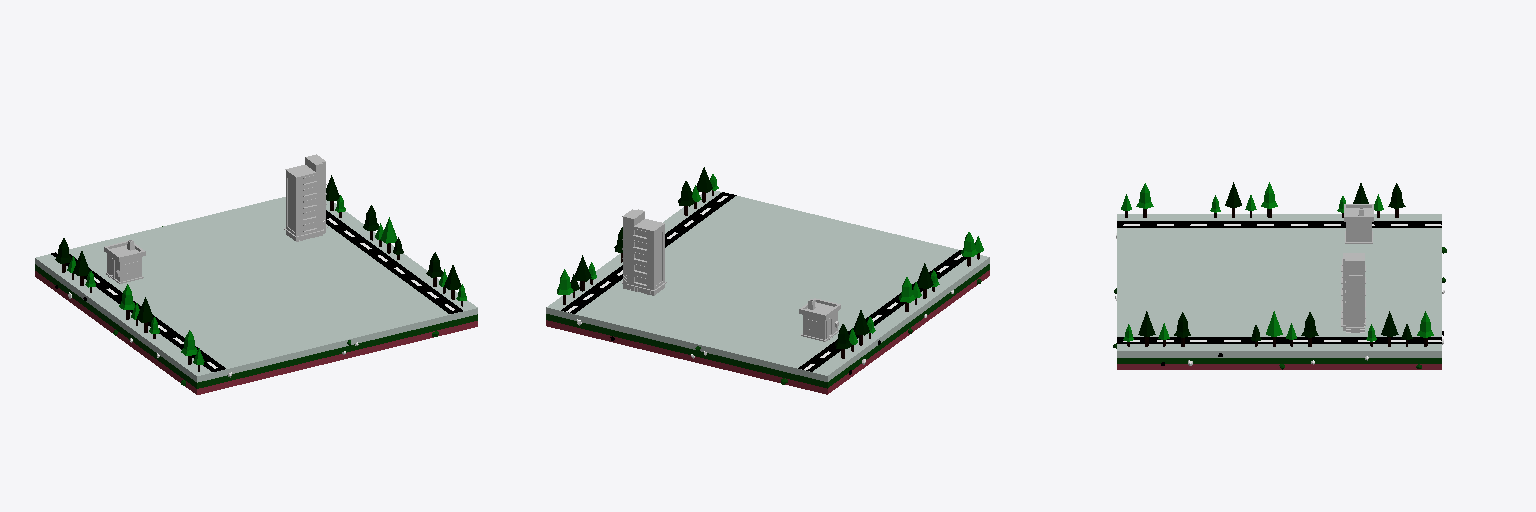
Rendered from map.obj.
3 renders of one model, left to right at view 1: azimuth 30°, elevation 25°; view 2: azimuth 150°, elevation 25°; view 3: azimuth 270°, elevation 25°, orthographic.
Visible parts, largest first — view 1: Commercial_building_lowpoly_06.089, Commercial_building_lowpoly_06.094, Commercial_building_Low_poly06, Stylised_low_poly_building.001, Commercial_building_lowpoly_06.047, Commercial_building_lowpoly_06.060, Cube.195, Cube.054; view 2: Commercial_building_lowpoly_06.089, Commercial_building_lowpoly_06.094, Commercial_building_Low_poly06, Stylised_low_poly_building.001, Commercial_building_lowpoly_06.047, Commercial_building_lowpoly_06.060, Cube.195, Cube.054; view 3: Commercial_building_lowpoly_06.089, Commercial_building_lowpoly_06.094, Commercial_building_Low_poly06, Commercial_building_lowpoly_06.060, Commercial_building_lowpoly_06.047, Stylised_low_poly_building.001, Cube.054, Cube.195.
Boxes of the visible parts, x1=… form: Commercial_building_lowpoly_06.089: x1=35, y1=197, x2=477, y2=382; Commercial_building_lowpoly_06.094: x1=35, y1=264, x2=477, y2=388; Commercial_building_Low_poly06: x1=35, y1=271, x2=477, y2=394; Stylised_low_poly_building.001: x1=284, y1=154, x2=327, y2=241; Commercial_building_lowpoly_06.047: x1=326, y1=210, x2=462, y2=313; Commercial_building_lowpoly_06.060: x1=51, y1=252, x2=225, y2=371; Cube.195: x1=104, y1=240, x2=145, y2=283; Cube.054: x1=288, y1=176, x2=325, y2=240; Commercial_building_lowpoly_06.089: x1=546, y1=190, x2=989, y2=381; Commercial_building_lowpoly_06.094: x1=546, y1=264, x2=989, y2=388; Commercial_building_Low_poly06: x1=546, y1=270, x2=989, y2=394; Stylised_low_poly_building.001: x1=621, y1=209, x2=666, y2=295; Commercial_building_lowpoly_06.047: x1=561, y1=192, x2=736, y2=313; Commercial_building_lowpoly_06.060: x1=798, y1=250, x2=966, y2=371; Cube.195: x1=799, y1=298, x2=840, y2=341; Cube.054: x1=629, y1=230, x2=661, y2=294; Commercial_building_lowpoly_06.089: x1=1117, y1=214, x2=1441, y2=357; Commercial_building_lowpoly_06.094: x1=1117, y1=358, x2=1441, y2=363; Commercial_building_Low_poly06: x1=1117, y1=364, x2=1441, y2=369; Commercial_building_lowpoly_06.060: x1=1117, y1=221, x2=1441, y2=227; Commercial_building_lowpoly_06.047: x1=1117, y1=337, x2=1441, y2=343; Stylised_low_poly_building.001: x1=1341, y1=253, x2=1365, y2=332; Cube.054: x1=1343, y1=269, x2=1364, y2=332; Cube.195: x1=1344, y1=204, x2=1373, y2=243.
Size of the model in its own units: 18.47 by 5.56 by 18.5.